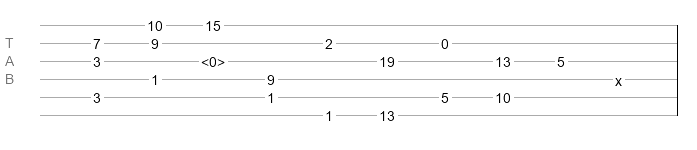0: (441, 36, 449, 46)
1: (151, 72, 159, 82), (267, 90, 275, 100), (325, 108, 333, 118)
10: (147, 18, 163, 28), (495, 90, 511, 100)
13: (379, 108, 395, 118), (495, 54, 511, 64)
15: (205, 18, 221, 28)
19: (379, 54, 395, 64)
2: (325, 36, 333, 46)
3: (93, 54, 101, 64), (93, 90, 101, 100)
5: (441, 90, 449, 100), (557, 54, 565, 64)
7: (93, 36, 101, 46)
9: (151, 36, 159, 46), (267, 72, 275, 82)
harmonic: (201, 54, 225, 64)
x: (615, 73, 622, 81)
